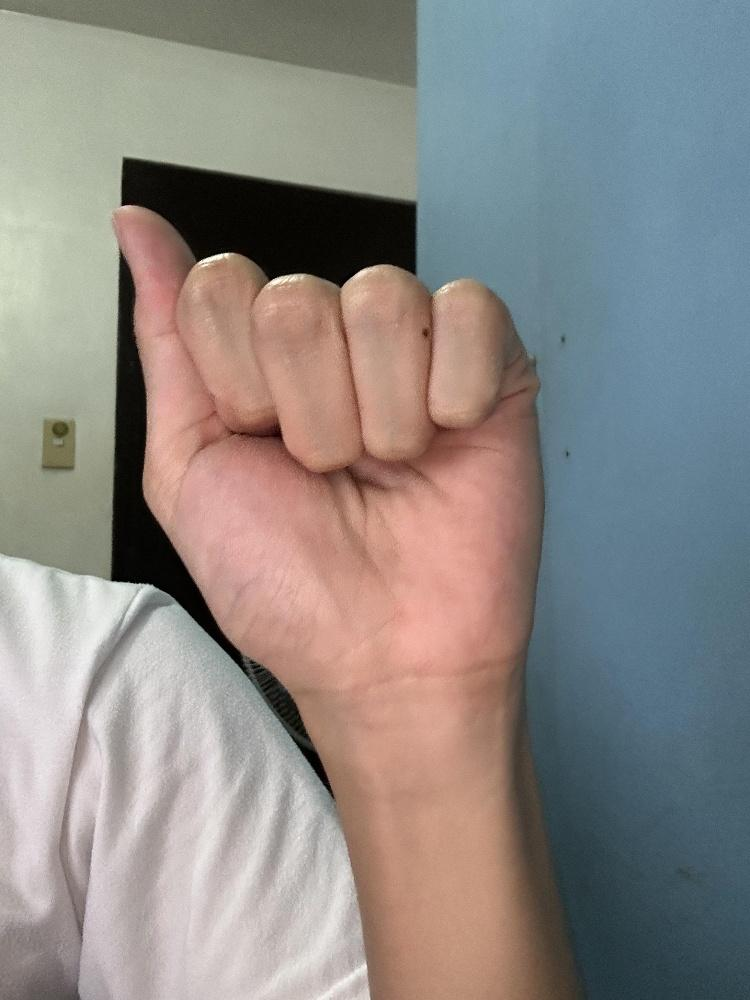a: (102, 196, 551, 687)
